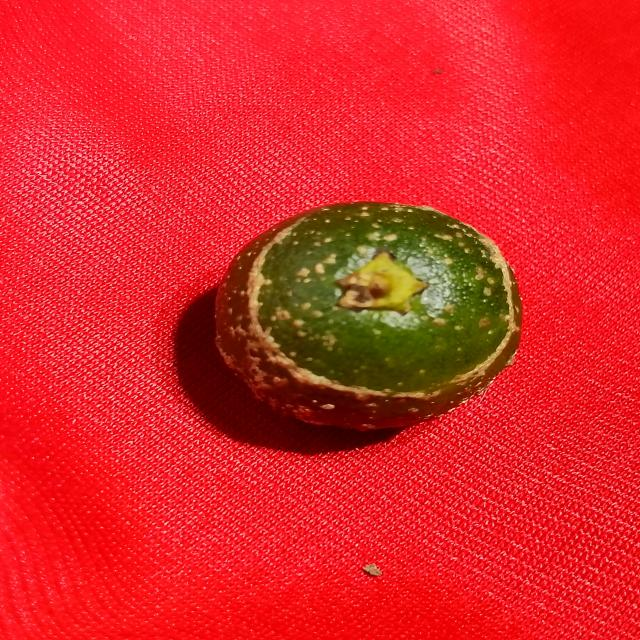scab: (197, 209, 500, 436)
